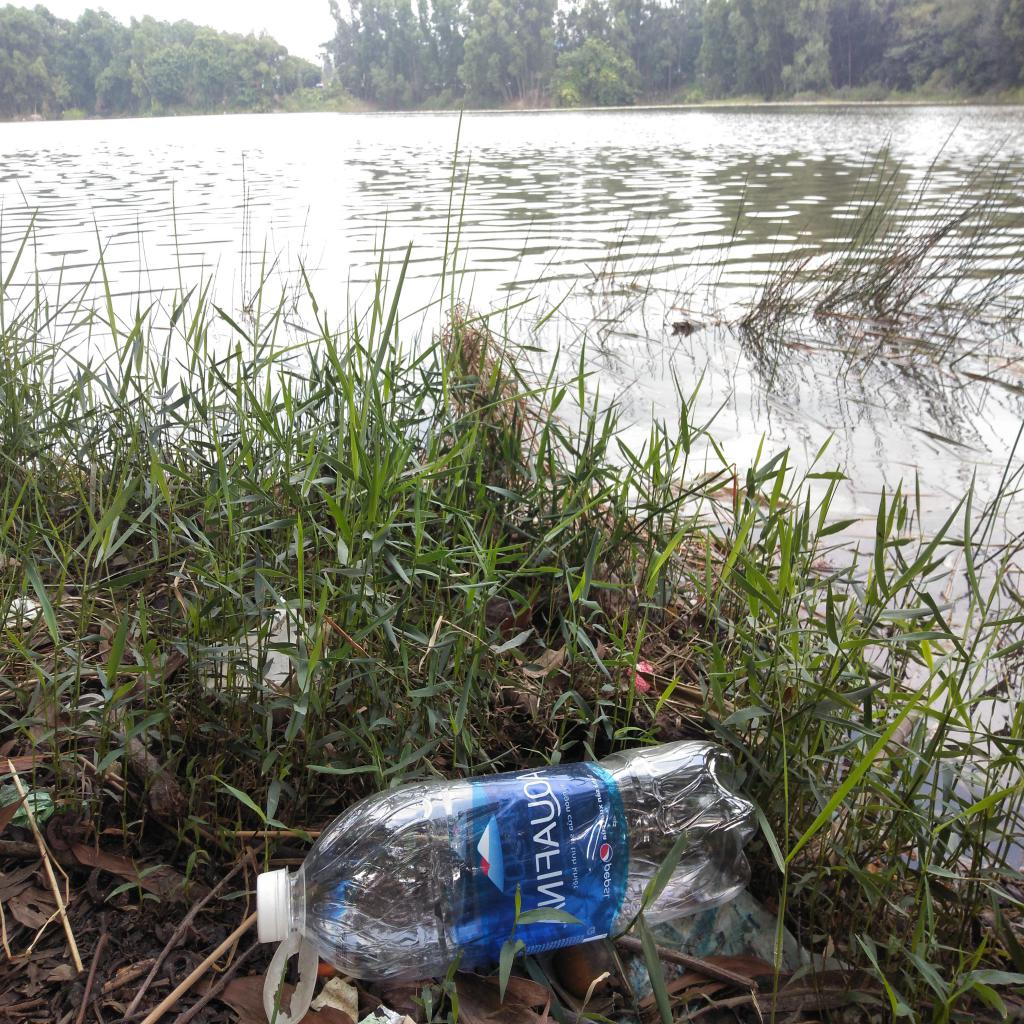Clear plastic bottle: (256, 740, 758, 982)
Other plastic wrapper: (262, 930, 318, 1024)
Plastic film: (626, 888, 858, 1003)
Unlabeled litter: (195, 596, 309, 704), (65, 694, 105, 726)
